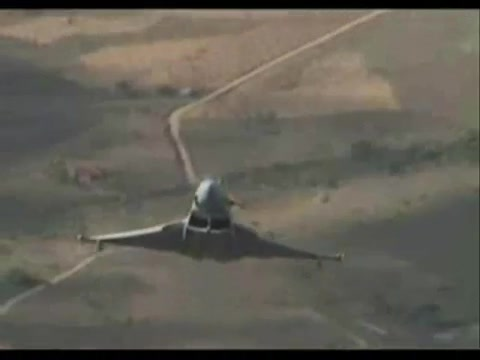aeroplane: (79, 176, 346, 269)
